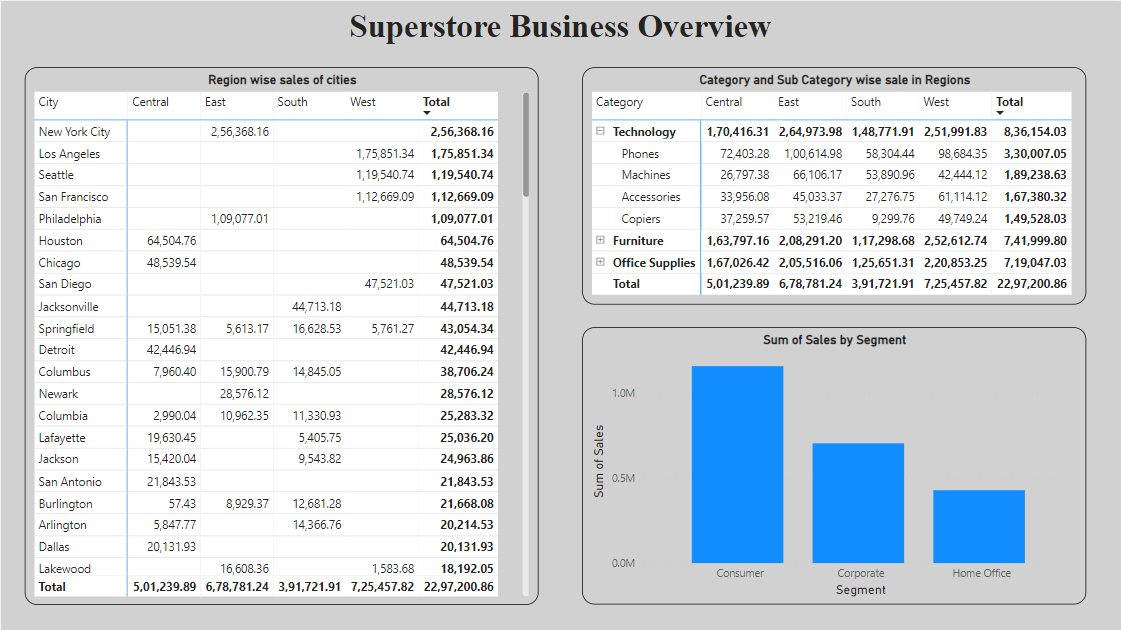

Layout of this report page (visuals, bound fields, positions):
{"tool":"powerbi","page":{"name":"Business Overview_2","canvas":[1280,720],"ordinal":1},"visuals":[{"type":"textbox","box":[345,1.2,590,57.5],"z":3000},{"type":"pivotTable","title":"Region wise sales of cities","fields":{"Rows":["SampleSuperstore.City"],"Values":["Sum(SampleSuperstore.Sales)"],"Columns":["SampleSuperstore.Region"]},"box":[27.1,75.7,587.1,614.3],"z":8001},{"type":"pivotTable","title":"Category and Sub Category wise sale in Regions","fields":{"Values":["Sum(SampleSuperstore.Sales)"],"Columns":["SampleSuperstore.Region"],"Rows":["SampleSuperstore.Category","SampleSuperstore.Sub-Category"]},"box":[664.3,75.7,575.7,271.4],"z":8002},{"type":"columnChart","fields":{"Category":["SampleSuperstore.Segment"],"Y":["Sum(SampleSuperstore.Sales)"]},"box":[664.3,372.9,575.7,317.1],"z":8003}]}

Visuals, with their boxes in screenshot pixels (x1, y1, x2, y2), scaled from the page's 1280x720 canvas onto the 1121x630 screenshot:
textbox: (302, 1, 819, 51)
"Region wise sales of cities" pivotTable: (24, 66, 538, 604)
"Category and Sub Category wise sale in Regions" pivotTable: (582, 66, 1086, 304)
columnChart - SampleSuperstore.Segment x Sum(SampleSuperstore.Sales): (582, 326, 1086, 604)
